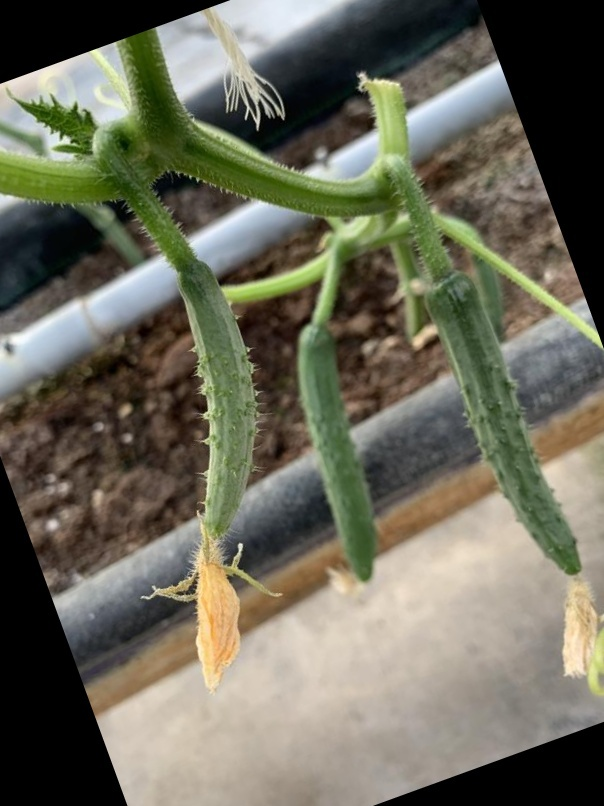bear: (144, 262, 306, 699)
growth: (419, 267, 591, 591), (168, 254, 274, 564), (287, 322, 383, 596)
